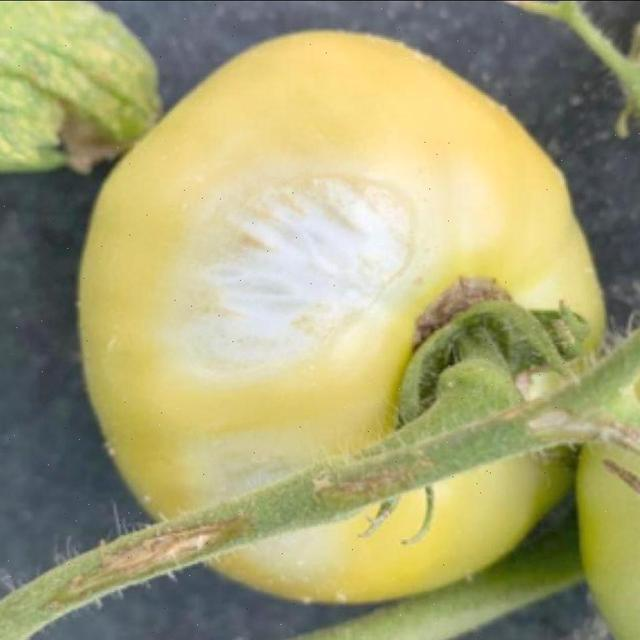Sunscald Fruit: (117, 100, 202, 328)
